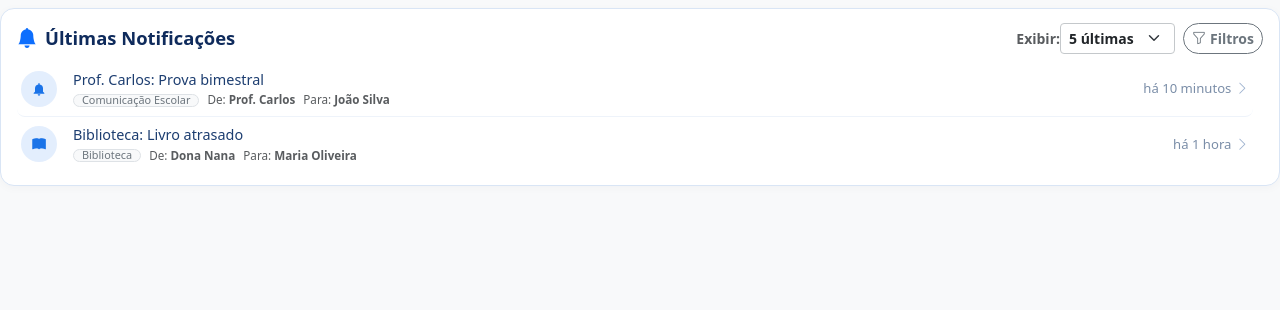
it: LatestUpdates Component › permite abrir o painel de filtros e aplicar busca por remetente, destinatário e categoria
Note: Clica no botão de filtros
Click the button titled "Filtrar por destinatário, remetente ou categoria".
click(1223, 38)  # box [1183, 23, 1263, 54]
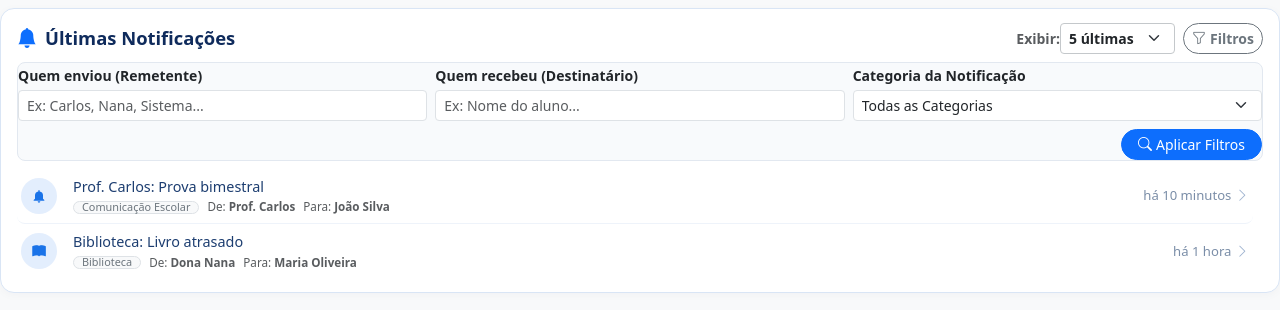
Note: Preenche os campos
Type "Carlos" into the field labelled "Quem enviou (Remetente)".
click(223, 105); type("Carlos")  # box [18, 90, 427, 121]
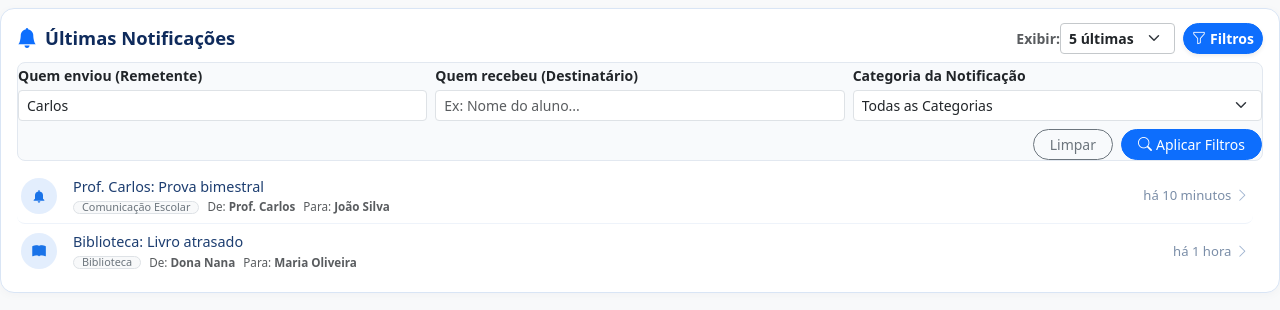
Click the button "Aplicar Filtros".
click(1192, 144)  # box [1121, 129, 1262, 160]
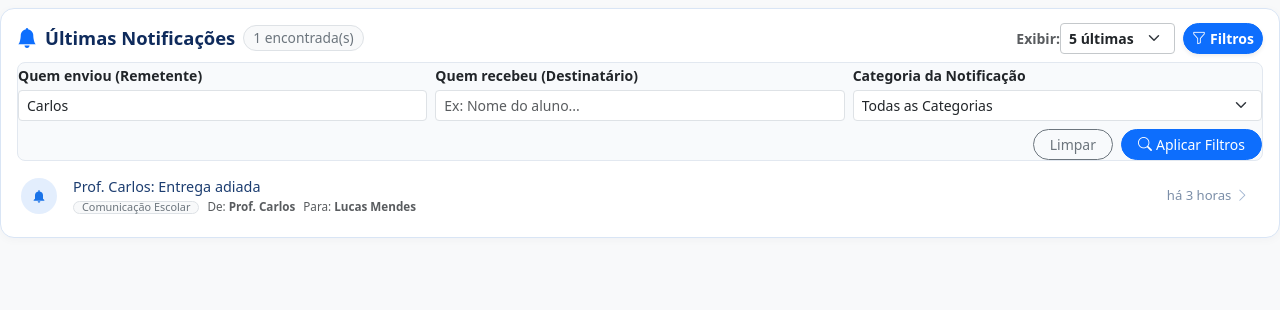
Check: the text "Prof. Carlos: Entrega adiada" is shown, box [73, 177, 260, 196]
